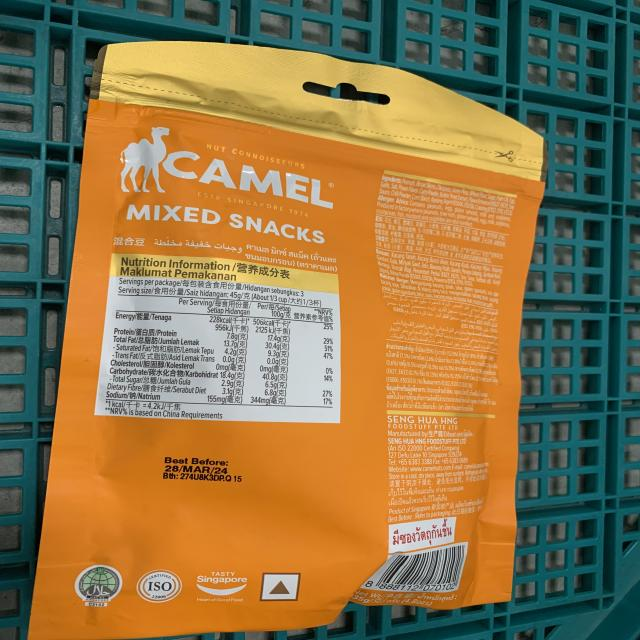object_name: (78, 37, 521, 620)
